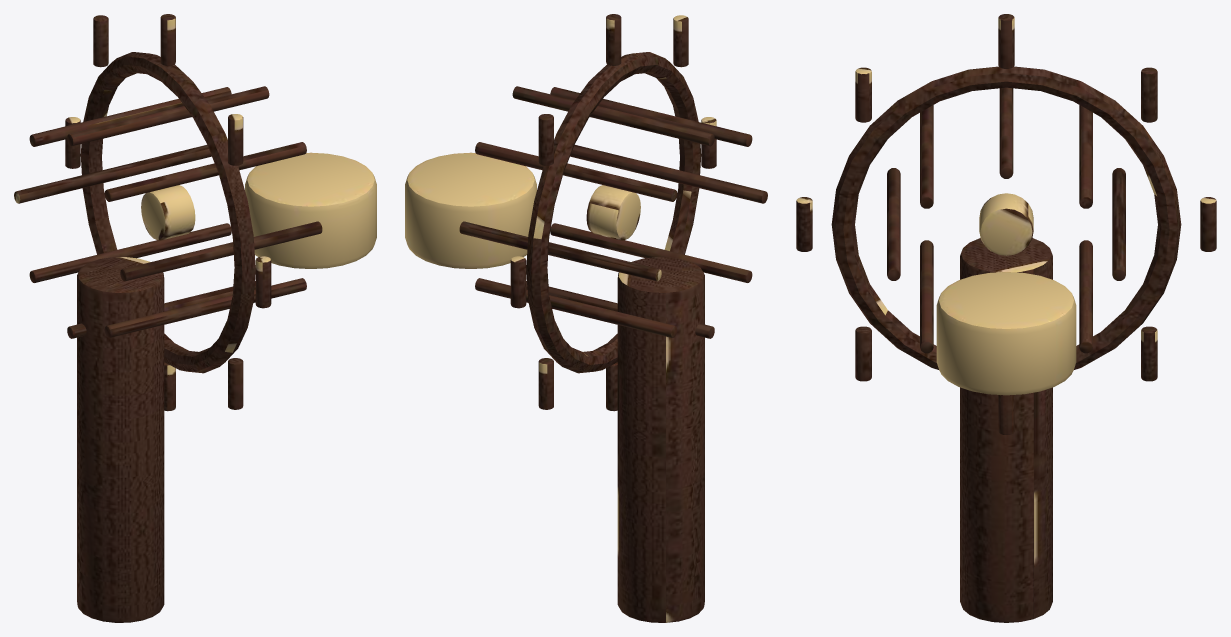
Rendered from wheel.glb.
The picture shows the model from 3 angles, left to right: view 1: azimuth 30°, elevation 25°; view 2: azimuth 150°, elevation 25°; view 3: azimuth 270°, elevation 25°; orthographic projection. The views are drawn at different scales.
Parts seen in each view (by area): view 1: pedestal, rim, binnacle, spoke0, spoke4, spoke2, hub, spoke3, spoke7, spoke5, spoke1, spoke6 (+7 smaller); view 2: pedestal, rim, binnacle, spoke4, spoke0, spoke2, hub, spoke1, spoke5, spoke7, spoke3, spoke6 (+7 smaller); view 3: pedestal, rim, binnacle, hub, spoke5, spoke7, spoke0, spoke4, spoke1, spoke3, spoke2, handle5 (+7 smaller).
Part boxes in pixels (x1=…): pedestal: x1=77, y1=257, x2=164, y2=622; rim: x1=80, y1=52, x2=255, y2=373; binnacle: x1=245, y1=152, x2=376, y2=268; spoke0: x1=14, y1=145, x2=211, y2=203; spoke4: x1=120, y1=221, x2=322, y2=281; spoke2: x1=67, y1=86, x2=269, y2=146; hub: x1=141, y1=185, x2=195, y2=240; spoke3: x1=104, y1=142, x2=306, y2=201; spoke7: x1=29, y1=223, x2=231, y2=282; spoke5: x1=104, y1=278, x2=306, y2=337; spoke1: x1=29, y1=87, x2=231, y2=146; spoke6: x1=67, y1=281, x2=255, y2=338; pedestal: x1=617, y1=257, x2=704, y2=622; rim: x1=526, y1=52, x2=701, y2=373; binnacle: x1=405, y1=152, x2=536, y2=268; spoke4: x1=570, y1=145, x2=767, y2=203; spoke0: x1=459, y1=221, x2=661, y2=281; spoke2: x1=512, y1=86, x2=714, y2=146; hub: x1=586, y1=185, x2=640, y2=240; spoke1: x1=475, y1=142, x2=677, y2=201; spoke5: x1=550, y1=223, x2=752, y2=282; spoke7: x1=475, y1=278, x2=677, y2=337; spoke3: x1=550, y1=87, x2=752, y2=146; spoke6: x1=526, y1=281, x2=714, y2=338; pedestal: x1=960, y1=238, x2=1052, y2=622; rim: x1=831, y1=66, x2=1181, y2=369; binnacle: x1=936, y1=272, x2=1076, y2=395; hub: x1=979, y1=193, x2=1033, y2=255; spoke5: x1=920, y1=240, x2=933, y2=353; spoke7: x1=1079, y1=240, x2=1092, y2=353; spoke0: x1=1112, y1=168, x2=1125, y2=280; spoke4: x1=887, y1=168, x2=900, y2=280; spoke1: x1=1079, y1=105, x2=1092, y2=208; spoke3: x1=920, y1=105, x2=933, y2=208; spoke2: x1=999, y1=87, x2=1013, y2=178; handle5: x1=855, y1=326, x2=871, y2=381.
Bounding box in the file's own units: 0.94 × 1.74 × 1.08.
Materials: 1 (1 with a texture image).
